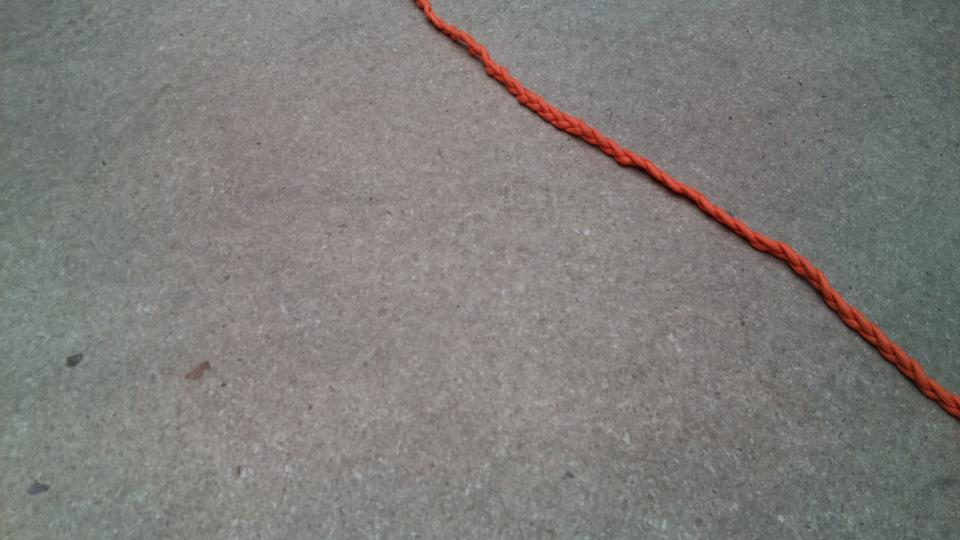rope: (432, 1, 960, 405)
